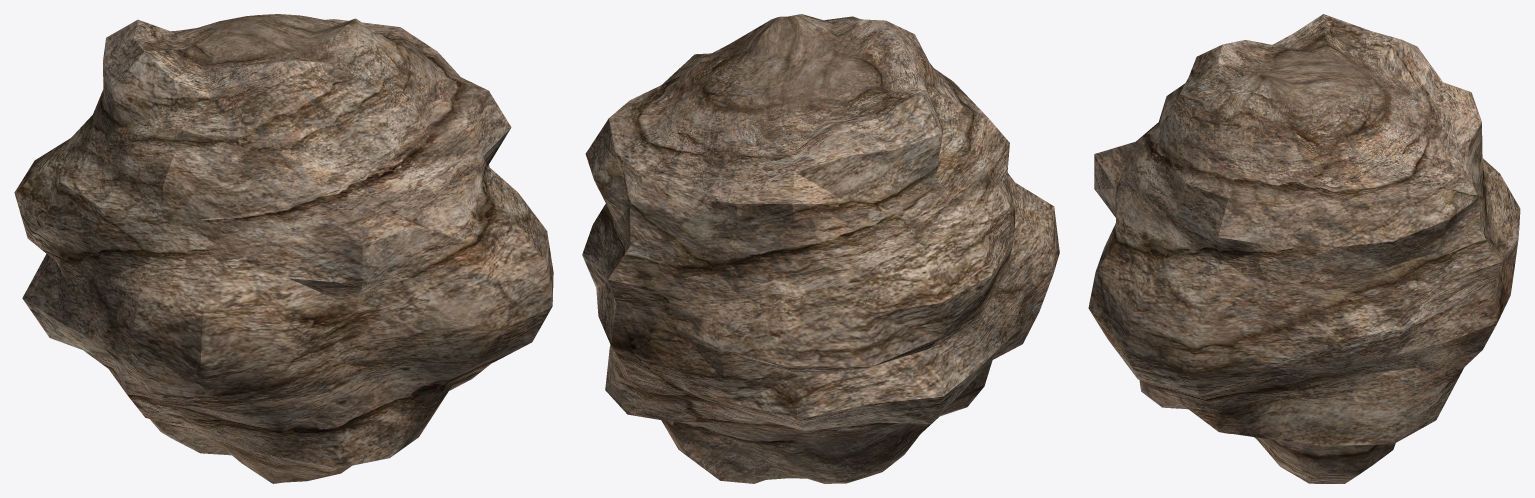
File: RockMediumRound_LOD1.obj
3 renders of one model, left to right at view 1: azimuth 30°, elevation 25°; view 2: azimuth 150°, elevation 25°; view 3: azimuth 270°, elevation 25°, orthographic. The views are drawn at different scales.
Parts seen in each view (by area): view 1: RockMediumRound_LOD1; view 2: RockMediumRound_LOD1; view 3: RockMediumRound_LOD1.
Boxes of the visible parts, box(x1,y1,x2,y2) form: RockMediumRound_LOD1: box(14, 14, 553, 483); RockMediumRound_LOD1: box(582, 14, 1059, 483); RockMediumRound_LOD1: box(1088, 14, 1520, 483).
Size of the model in its own units: 2.17 by 2.24 by 2.2.
